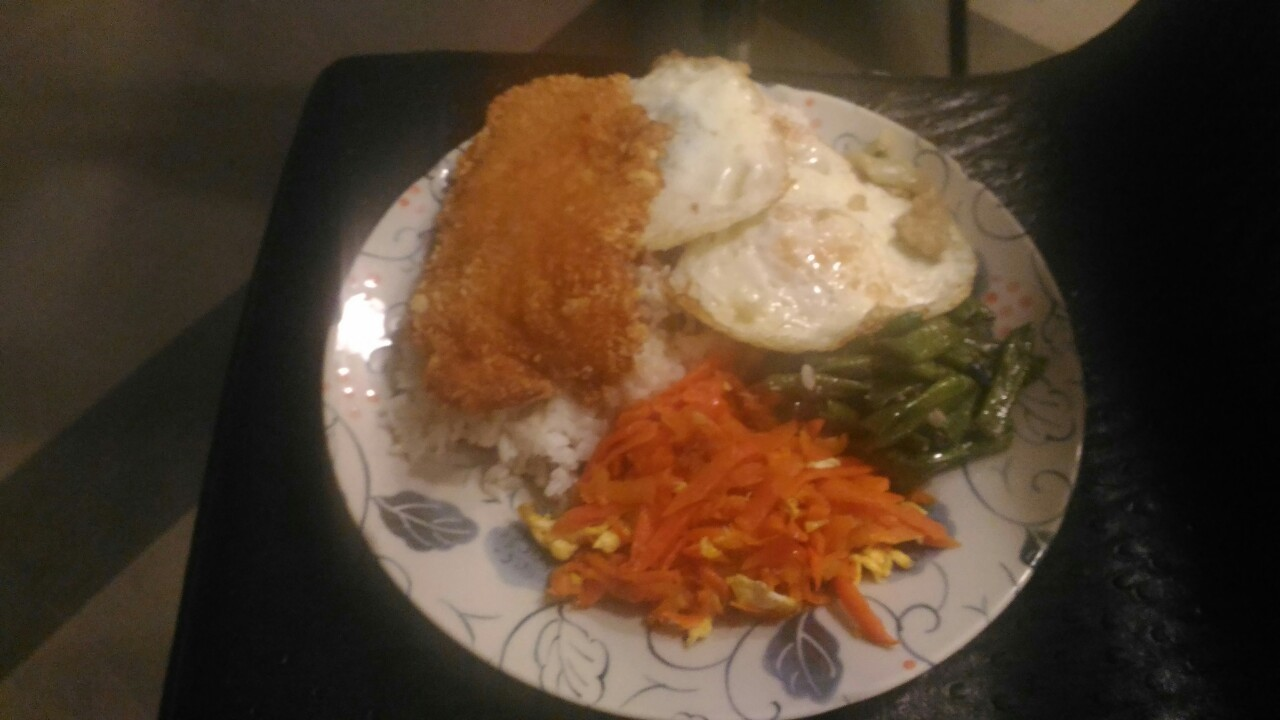carrot_eggs: (573, 393, 876, 635)
fried_chicken: (395, 75, 667, 415)
fried_eggs: (662, 65, 969, 337)
rice: (481, 402, 603, 501)
